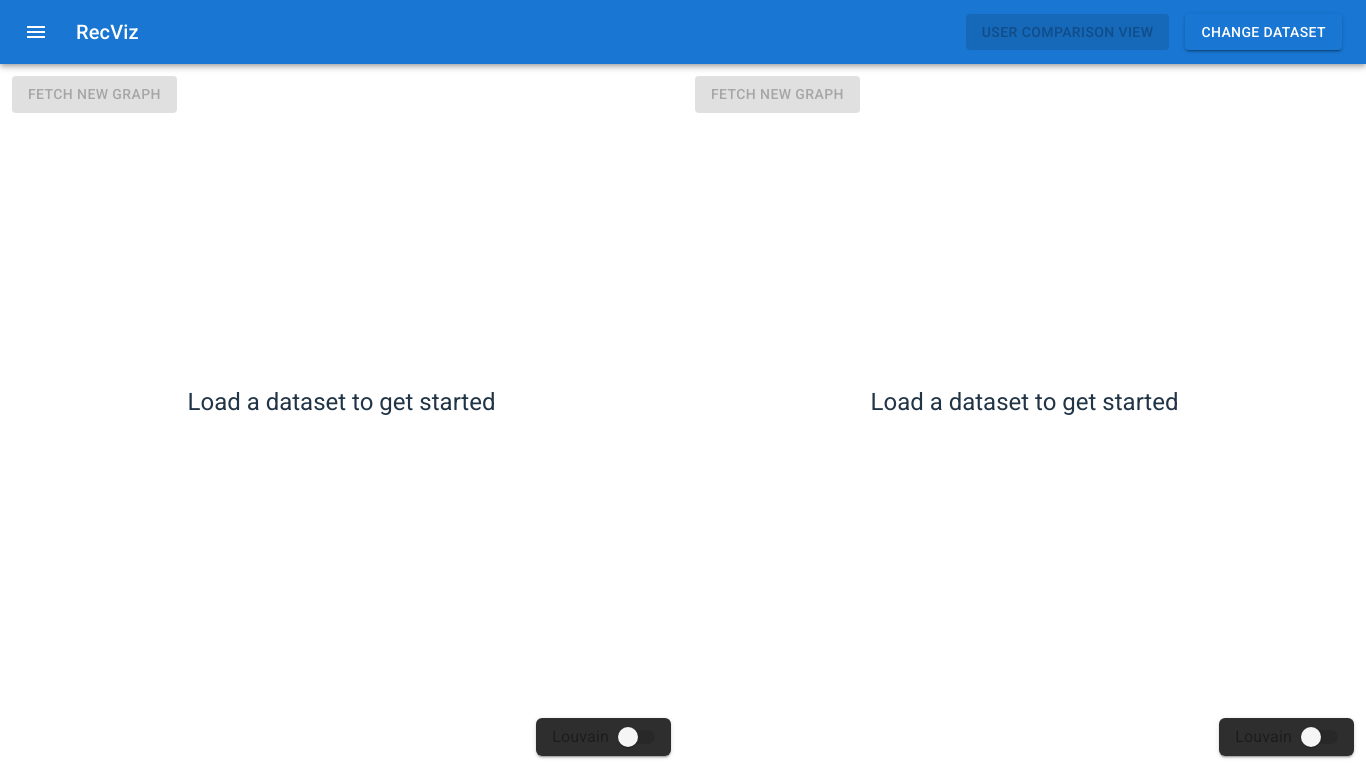
Test: App Component › opens and closes the dataset selection dialog
Click the button "Change dataset": (1264, 32) left=1185, top=14, right=1342, bottom=50
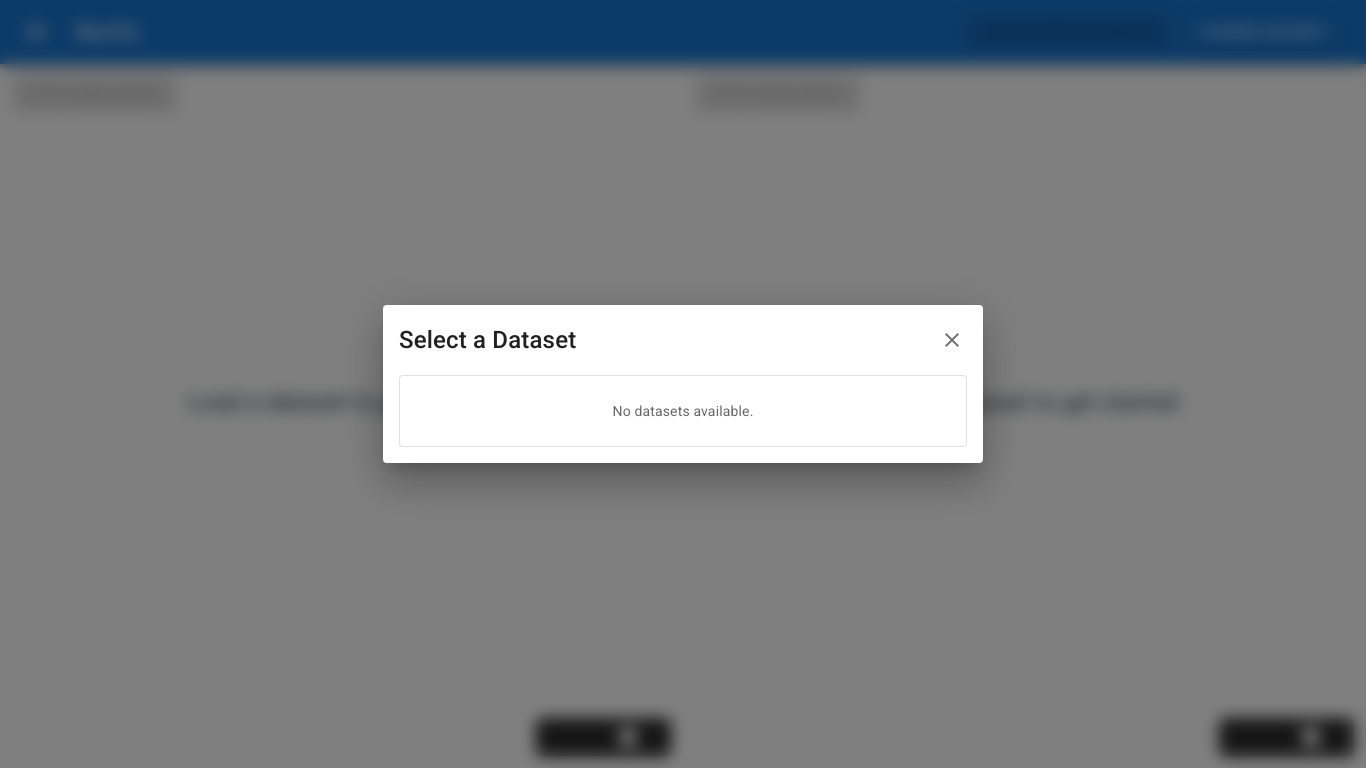
Expected: the dialog is shown, left=383, top=305, right=983, bottom=463
Expected: the button is shown
Click the button: (952, 340) left=937, top=325, right=967, bottom=355
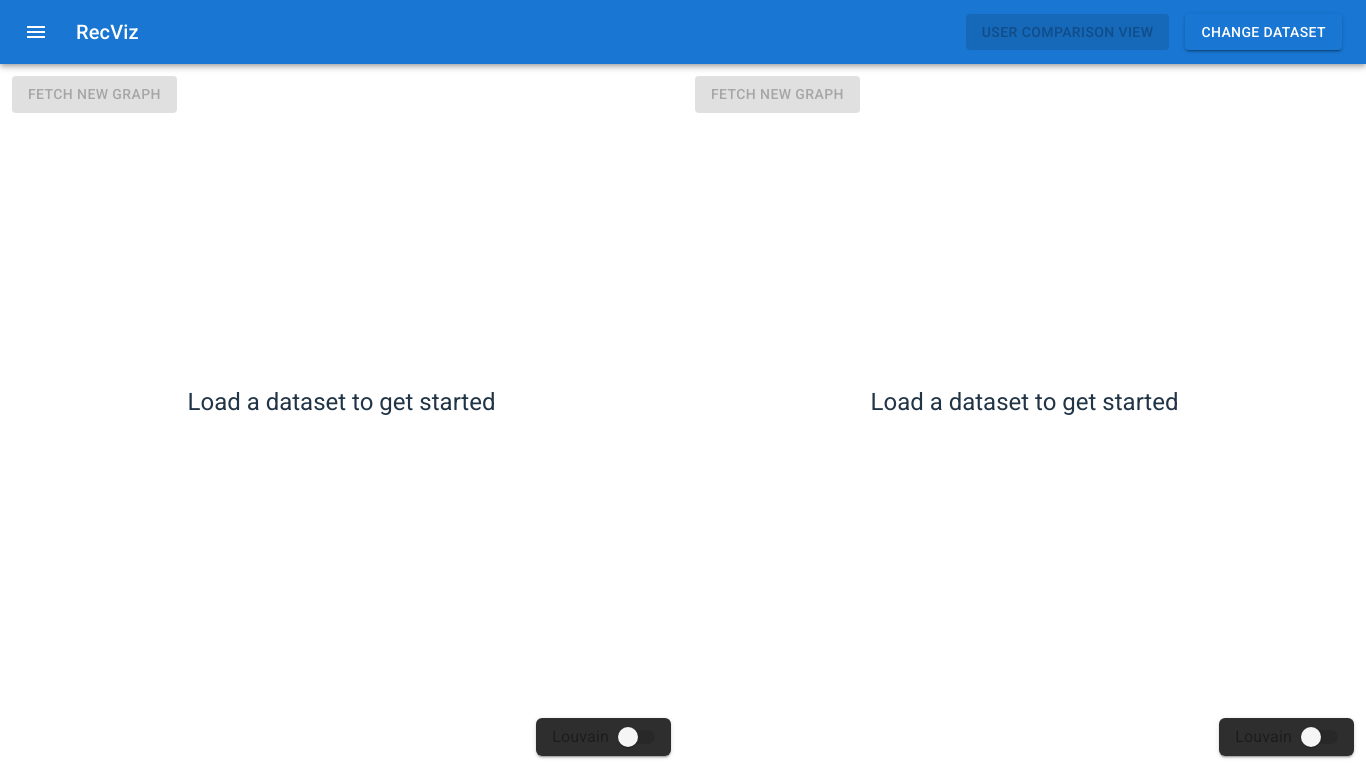
Expected: the dialog is gone
